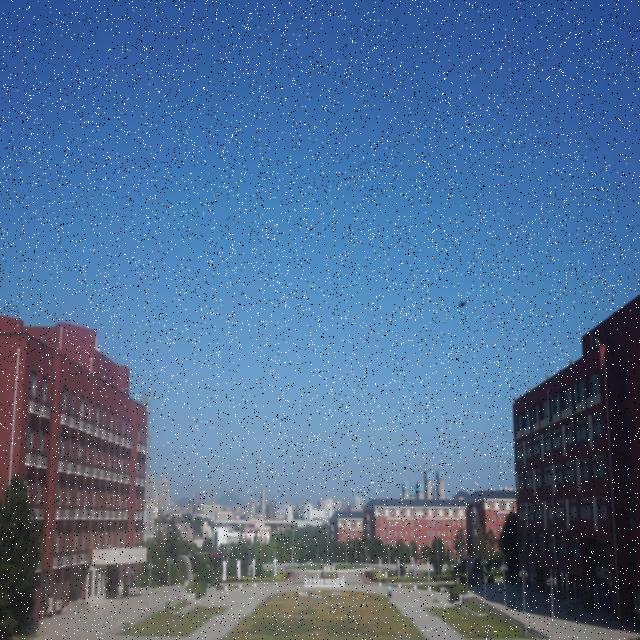UAV: (457, 300, 467, 308)
